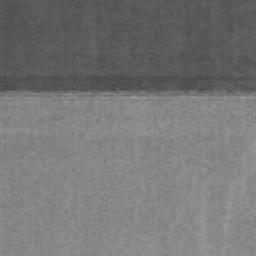Welding line: (0, 84, 256, 99)
